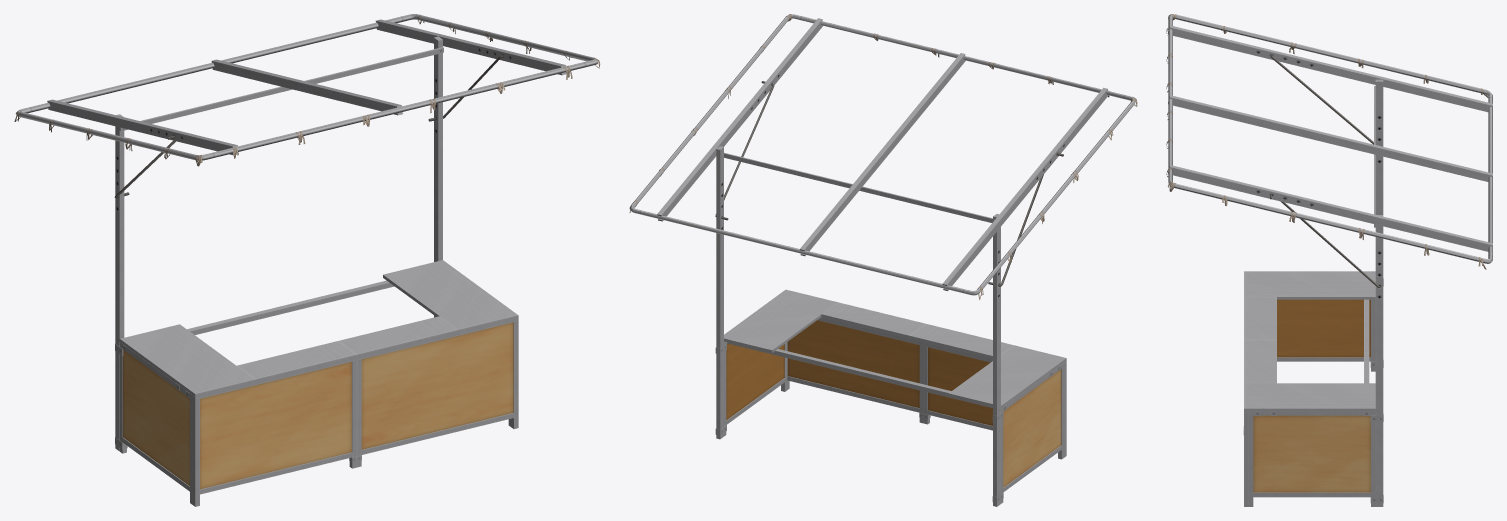
The model's file is jsf_2P_s02_c05_t03.fbx.
3 views of the same model, side by side, from view 1: azimuth 30°, elevation 25°; view 2: azimuth 150°, elevation 25°; view 3: azimuth 270°, elevation 25° (orthographic). The views are drawn at different scales.
Visible parts, largest first — view 1: Base_s02_c05, Pillar2_s02, Table_2P_s02_t03, Rope_2P_s02; view 2: Base_s02_c05, Pillar2_s02, Table_2P_s02_t03; view 3: Pillar2_s02, Base_s02_c05, Table_2P_s02_t03, Rope_2P_s02.
Boxes of the visible parts, <box> form: Base_s02_c05: <box>115,315,518,506</box>; Pillar2_s02: <box>15,14,597,451</box>; Table_2P_s02_t03: <box>119,260,517,397</box>; Rope_2P_s02: <box>14,15,600,166</box>; Base_s02_c05: <box>715,289,1066,503</box>; Pillar2_s02: <box>629,14,1135,506</box>; Table_2P_s02_t03: <box>724,290,1065,410</box>; Pillar2_s02: <box>1168,14,1492,506</box>; Base_s02_c05: <box>1243,271,1383,506</box>; Table_2P_s02_t03: <box>1245,271,1375,415</box>; Rope_2P_s02: <box>1166,14,1488,269</box>.
Size of the model in its own units: 264 by 244 by 211.
